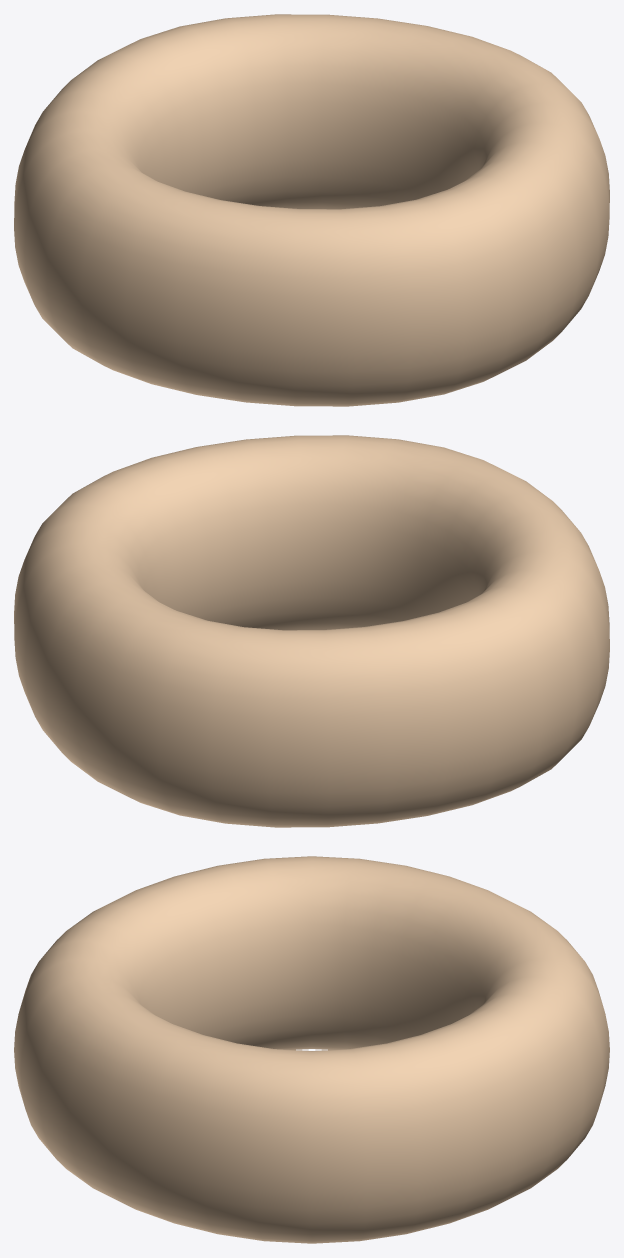
The model's file is example.gltf.
3 renders of one model, top to bottom at view 1: azimuth 30°, elevation 25°; view 2: azimuth 150°, elevation 25°; view 3: azimuth 270°, elevation 25°, orthographic. The views are drawn at different scales.
Parts seen in each view (by area): view 1: torus_cage; view 2: torus_cage; view 3: torus_cage.
Part boxes in pixels (x1,y1,x2,y2): torus_cage: (14, 14, 609, 406); torus_cage: (14, 435, 609, 827); torus_cage: (14, 856, 609, 1243).
Bounding box in the file's own units: 1.74 × 0.5867 × 1.74.
